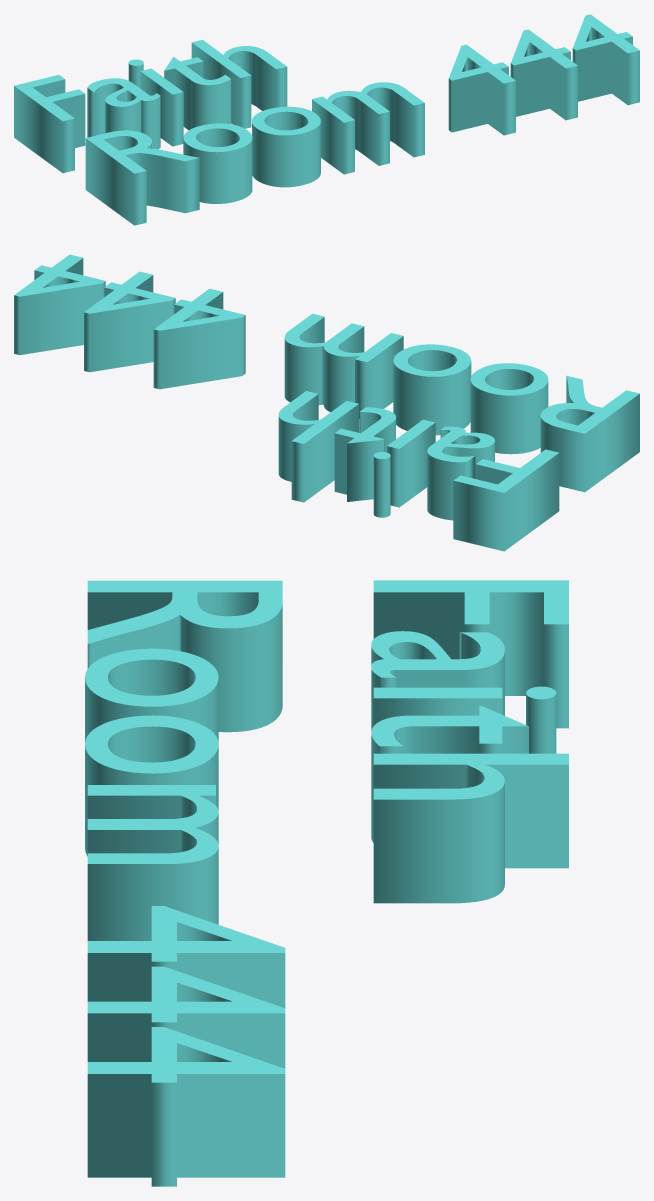
The model's file is faith-444.gltf.
3 renders of one model, top to bottom at view 1: azimuth 30°, elevation 25°; view 2: azimuth 150°, elevation 25°; view 3: azimuth 270°, elevation 25°, orthographic. The views are drawn at different scales.
Visible parts, largest first — view 1: Text; view 2: Text; view 3: Text.
Part boxes in pixels (bbox=[...]): Text: bbox=[14, 14, 639, 225]; Text: bbox=[14, 254, 639, 551]; Text: bbox=[85, 580, 568, 1186].
Bounding box in the file's own units: 4.15 × 0.4 × 1.69.
